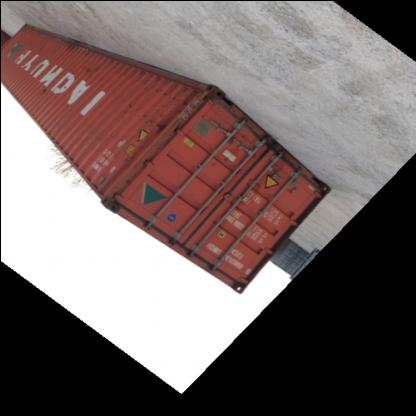Damage: (128, 73, 183, 108), (122, 103, 165, 133), (81, 58, 111, 87), (207, 154, 230, 180), (31, 76, 50, 104), (116, 172, 138, 196), (59, 36, 78, 60)
